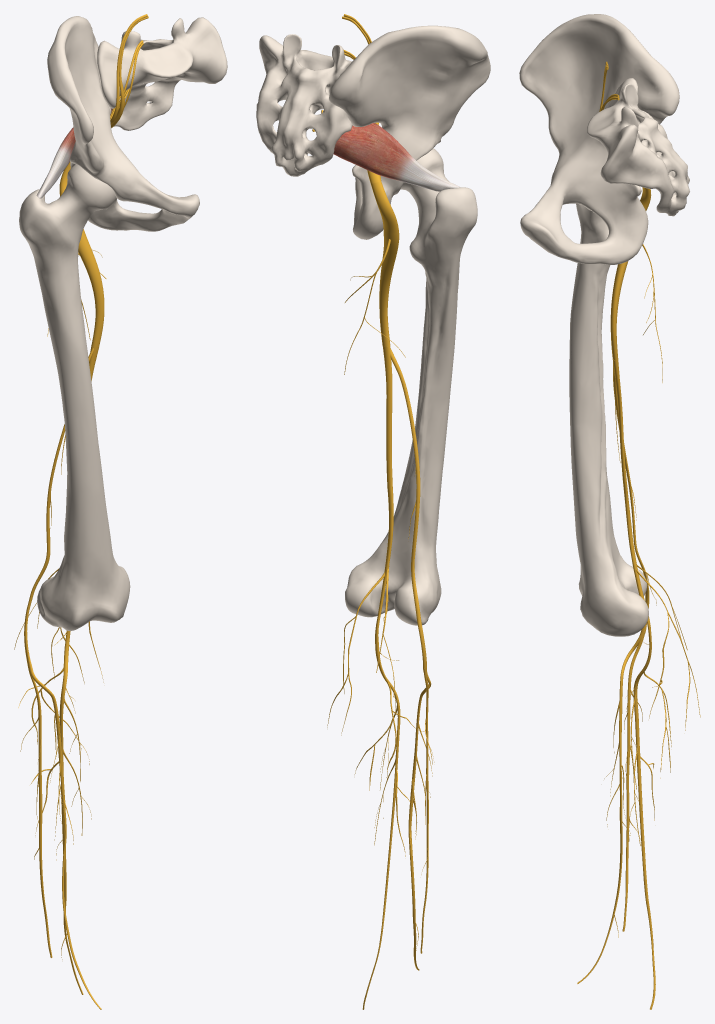
Rendered from sciatic-nerve.glb.
The picture shows the model from 3 angles, left to right: view 1: azimuth 30°, elevation 25°; view 2: azimuth 150°, elevation 25°; view 3: azimuth 270°, elevation 25°; orthographic projection. The views are drawn at different scales.
Visible parts, largest first — view 1: Femur.r, Hip bone.r, Sacrum, Tibial nerve.r, Common fibular nerve.r, Schiatic nerve.r, Deep fibular nerve.r, Superficial fibular nerve.r, Piriformis muscle.r; view 2: Femur.r, Hip bone.r, Sacrum, Tibial nerve.r, Piriformis muscle.r, Schiatic nerve.r, Common fibular nerve.r, Deep fibular nerve.r, Superficial fibular nerve.r; view 3: Hip bone.r, Femur.r, Sacrum, Tibial nerve.r, Deep fibular nerve.r, Schiatic nerve.r, Superficial fibular nerve.r, Common fibular nerve.r.
Part boxes in pixels (x1,y1,x2,y2): Femur.r: [19, 164, 130, 630]; Hip bone.r: [47, 16, 199, 231]; Sacrum: [97, 17, 227, 130]; Tibial nerve.r: [14, 16, 148, 994]; Common fibular nerve.r: [24, 14, 147, 652]; Schiatic nerve.r: [47, 162, 106, 346]; Deep fibular nerve.r: [25, 652, 101, 1009]; Superficial fibular nerve.r: [20, 652, 52, 957]; Piriformis muscle.r: [36, 108, 112, 198]; Femur.r: [345, 148, 477, 625]; Hip bone.r: [329, 25, 490, 239]; Sacrum: [256, 34, 352, 176]; Tibial nerve.r: [312, 16, 424, 1009]; Piriformis muscle.r: [333, 123, 459, 191]; Schiatic nerve.r: [344, 181, 405, 374]; Common fibular nerve.r: [321, 14, 426, 668]; Deep fibular nerve.r: [408, 668, 432, 970]; Superficial fibular nerve.r: [420, 668, 434, 953]; Hip bone.r: [519, 14, 679, 264]; Femur.r: [569, 203, 648, 636]; Sacrum: [587, 78, 689, 216]; Tibial nerve.r: [599, 64, 700, 1009]; Deep fibular nerve.r: [577, 629, 645, 983]; Schiatic nerve.r: [610, 187, 662, 382]; Superficial fibular nerve.r: [622, 629, 644, 931]; Common fibular nerve.r: [602, 61, 649, 630].
Bounding box in the file's own units: 0.21 × 0.9503 × 0.1601.
5 materials, 1 textured.
